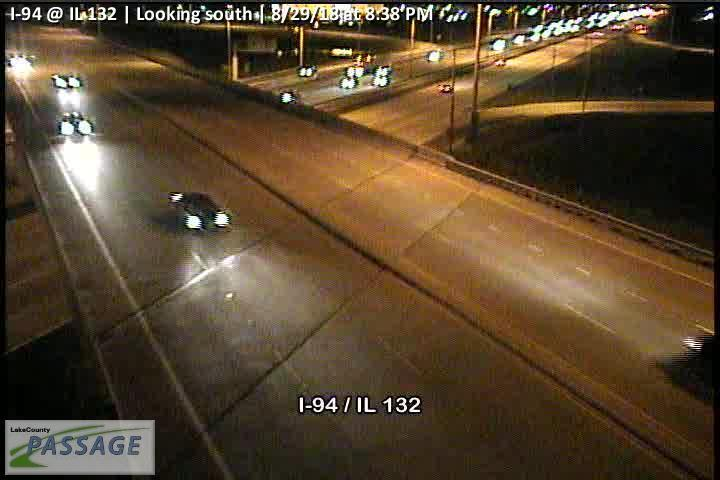Sedan: (169, 191, 230, 232), (58, 113, 92, 133)
